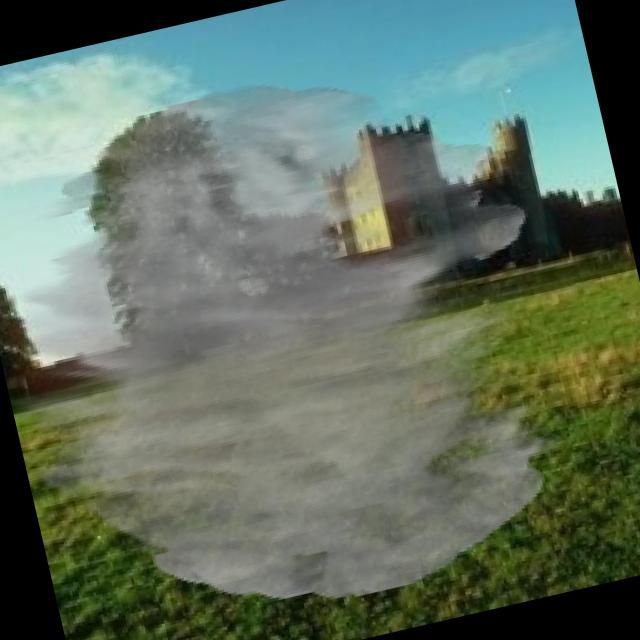Smoke: (0, 29, 603, 640)
